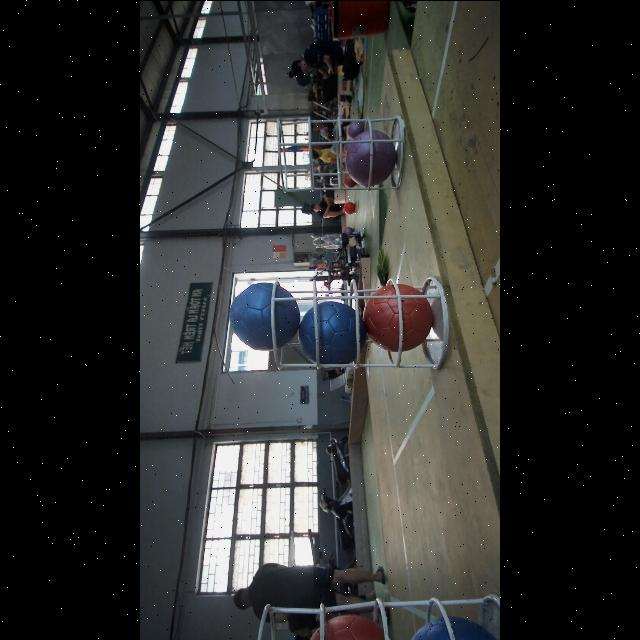B: (298, 298, 366, 368), (230, 282, 300, 350)
R: (364, 283, 434, 351)
